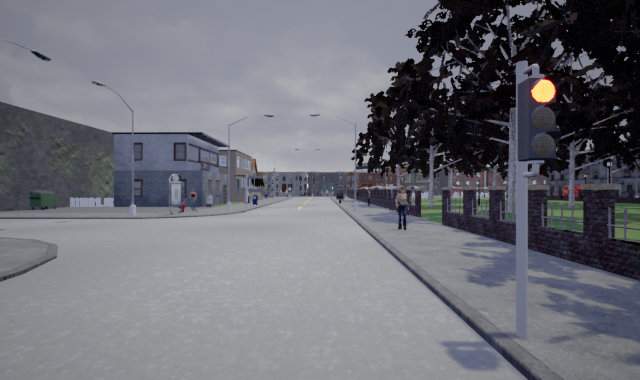pedestrian: (391, 184, 412, 230), (188, 188, 198, 213)
